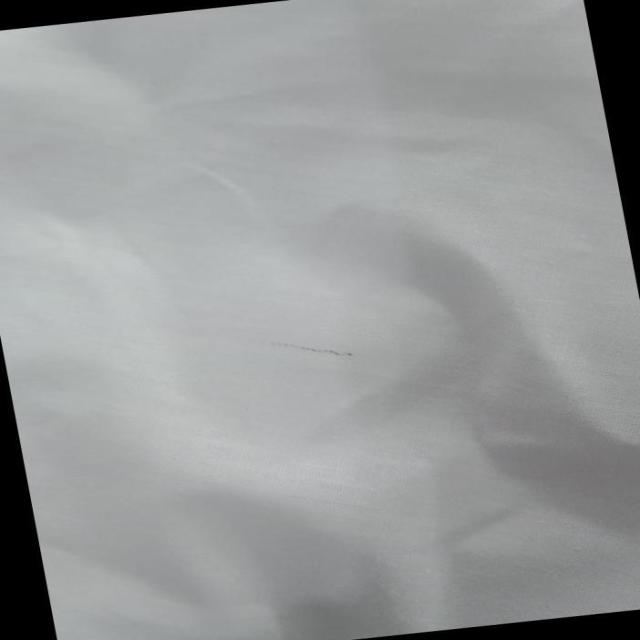contamination: (261, 328, 362, 371)
